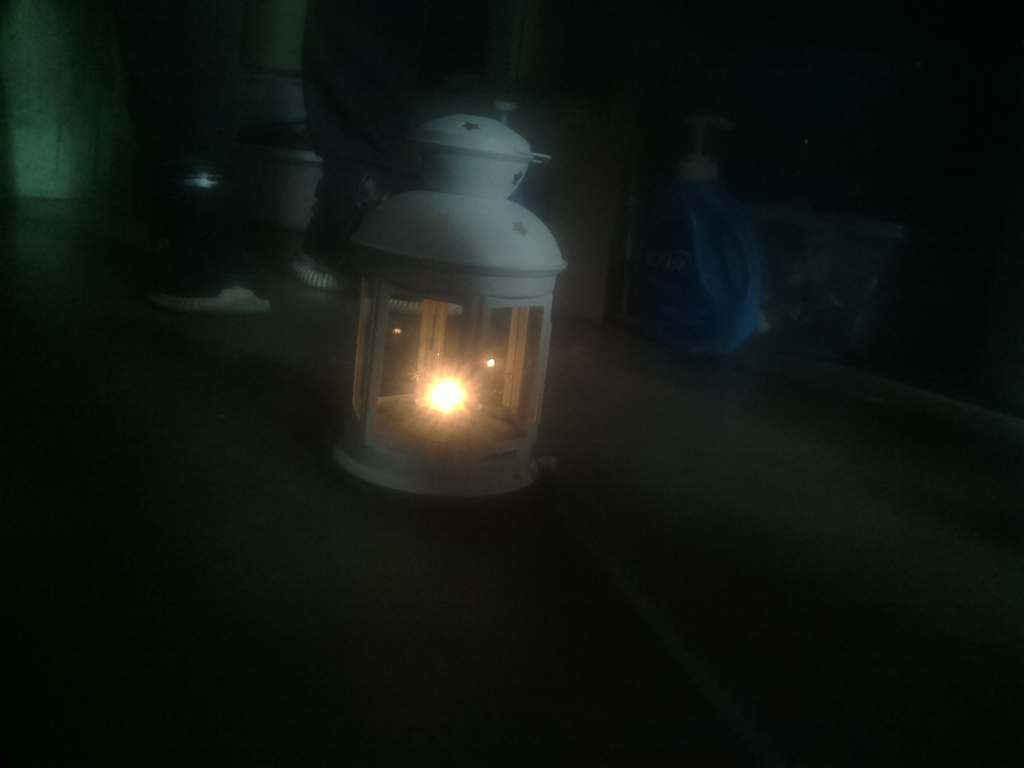fire: (398, 353, 491, 446)
